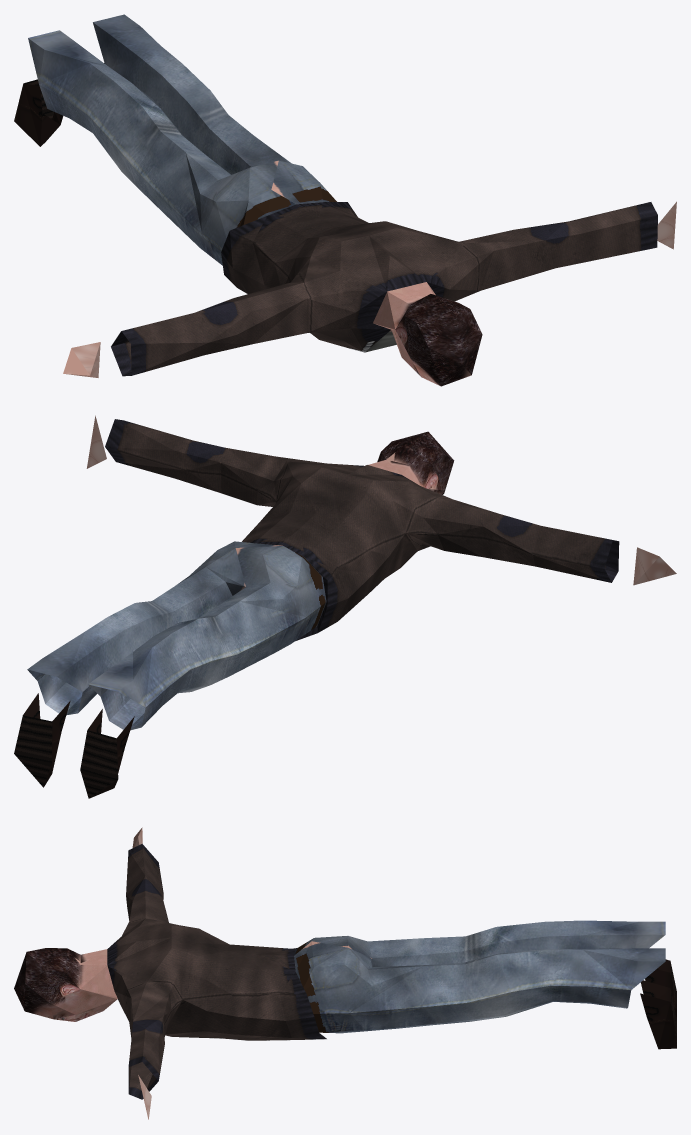
Rendered from tomdrinman5_3klow_wtf.obj.
3 renders of one model, top to bottom at view 1: azimuth 30°, elevation 25°; view 2: azimuth 150°, elevation 25°; view 3: azimuth 270°, elevation 25°, orthographic. The views are drawn at different scales.
Parts seen in each view (by area): view 1: group1; view 2: group1; view 3: group1.
Part boxes in pixels (x1,y1,x2,y2): group1: (14,14,676,386); group1: (14,415,676,798); group1: (14,827,676,1119).
Size of the model in its own units: 596 by 113 by 655.
